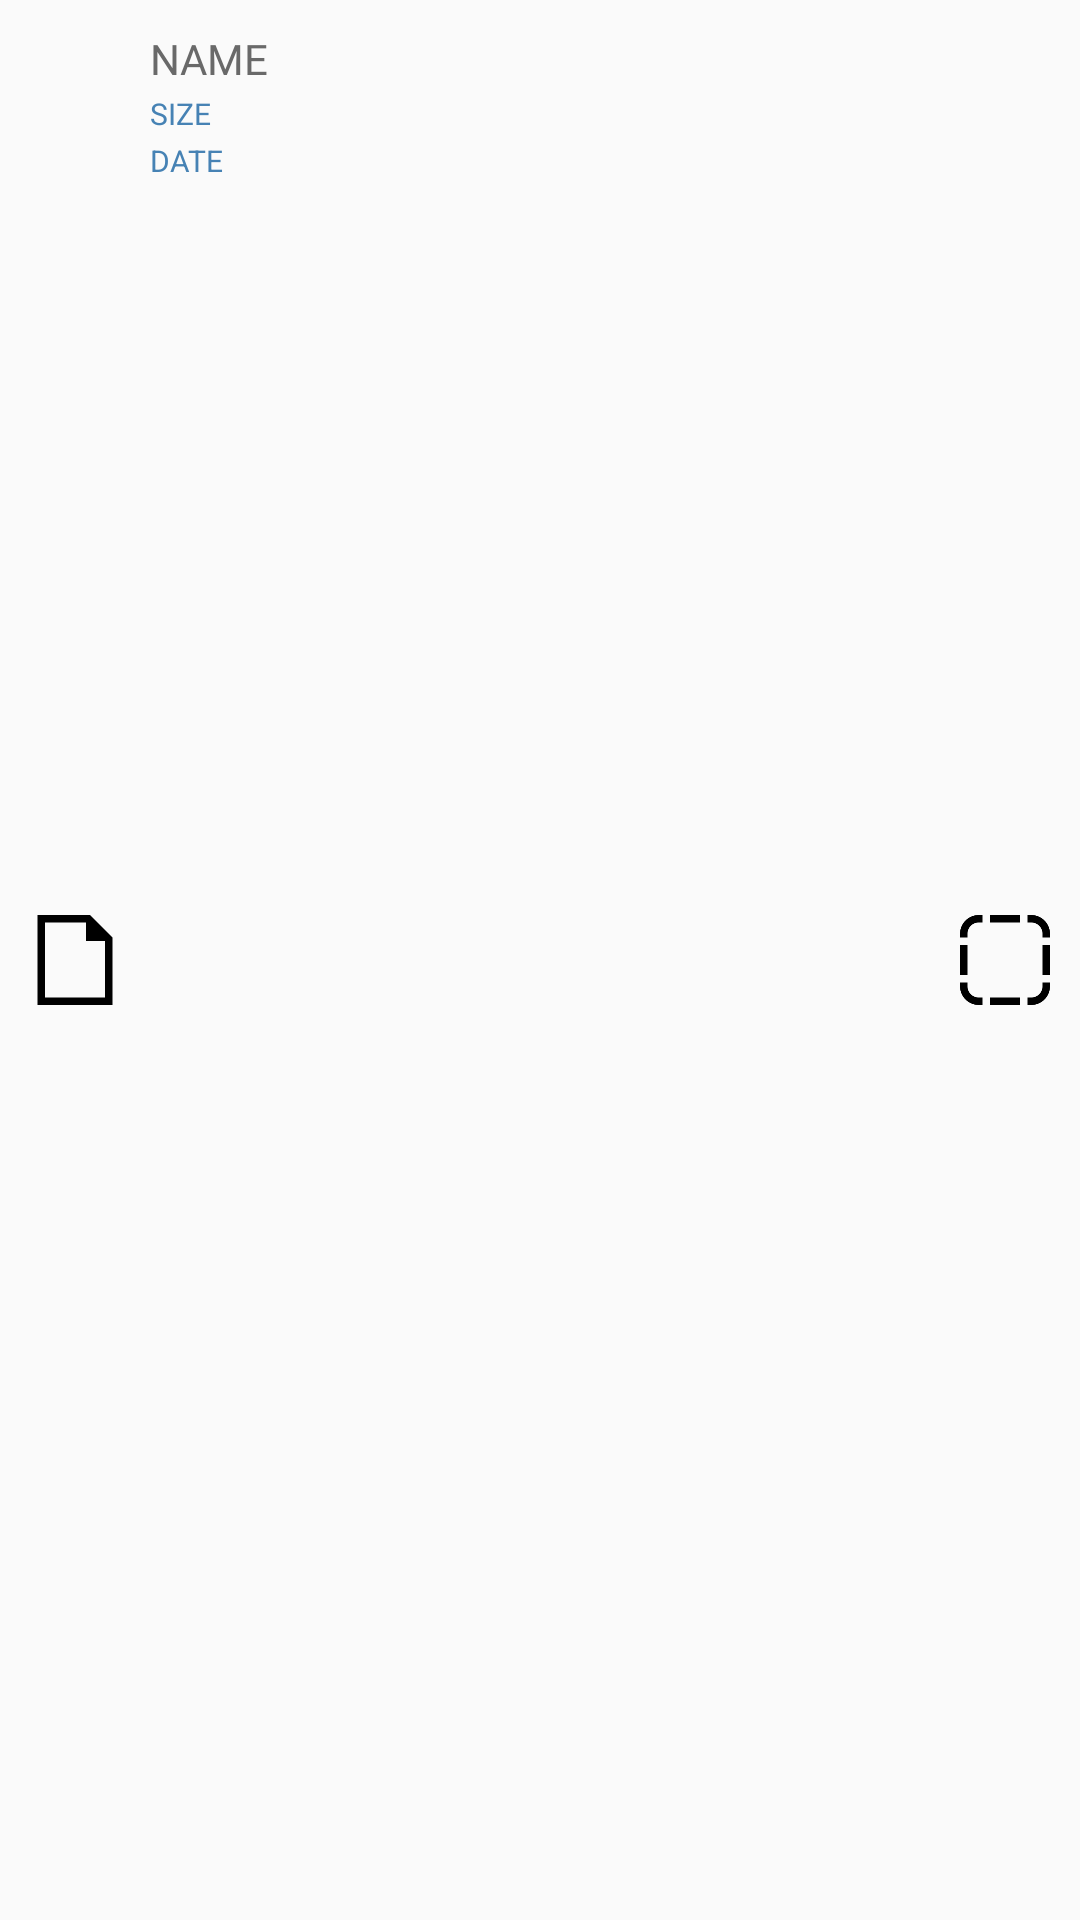

Where icons sit on this 1080px x 1920px app screen, as (x1, y1, x2, y2):
fileicon: (37, 915, 113, 1005)
fileviewcheckbox: (960, 915, 1050, 1005)
